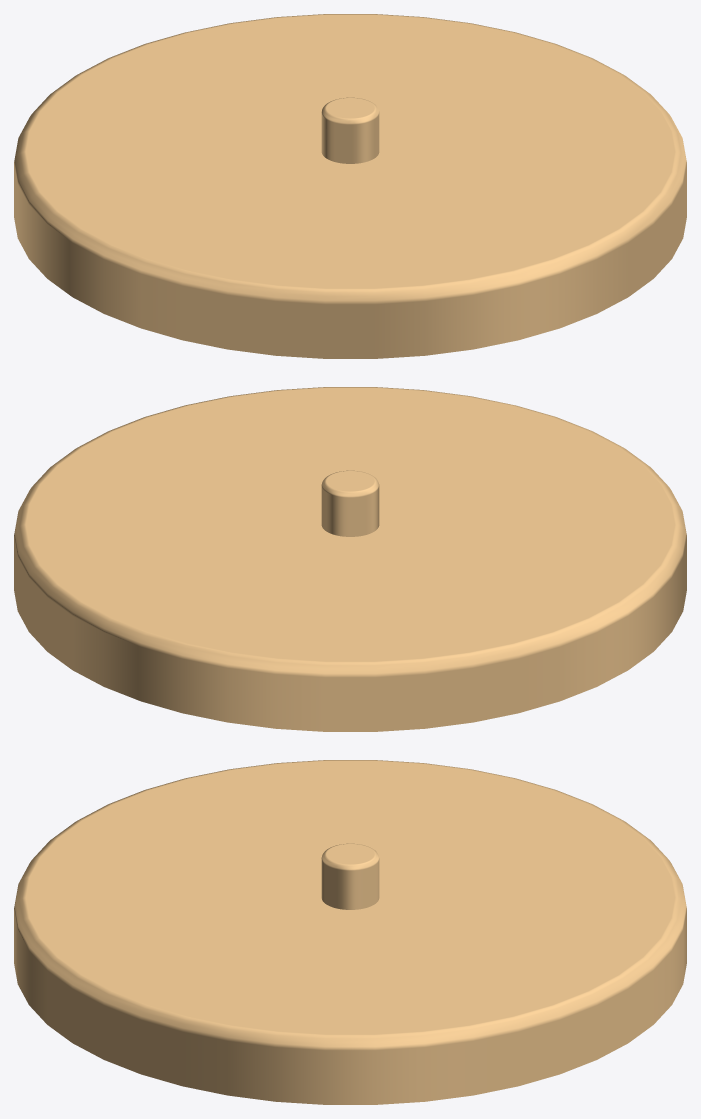
The model's file is ShadedKiraBaseGold.glb.
3 views of the same model, one above another, from view 1: azimuth 30°, elevation 25°; view 2: azimuth 150°, elevation 25°; view 3: azimuth 270°, elevation 25° (orthographic).
Parts seen in each view (by area): view 1: Base; view 2: Base; view 3: Base.
Part boxes in pixels (bbox=[...]): Base: bbox=[14, 14, 686, 358]; Base: bbox=[14, 387, 686, 731]; Base: bbox=[14, 760, 686, 1104].
Size of the model in its own units: 0.1396 by 0.025 by 0.14.
